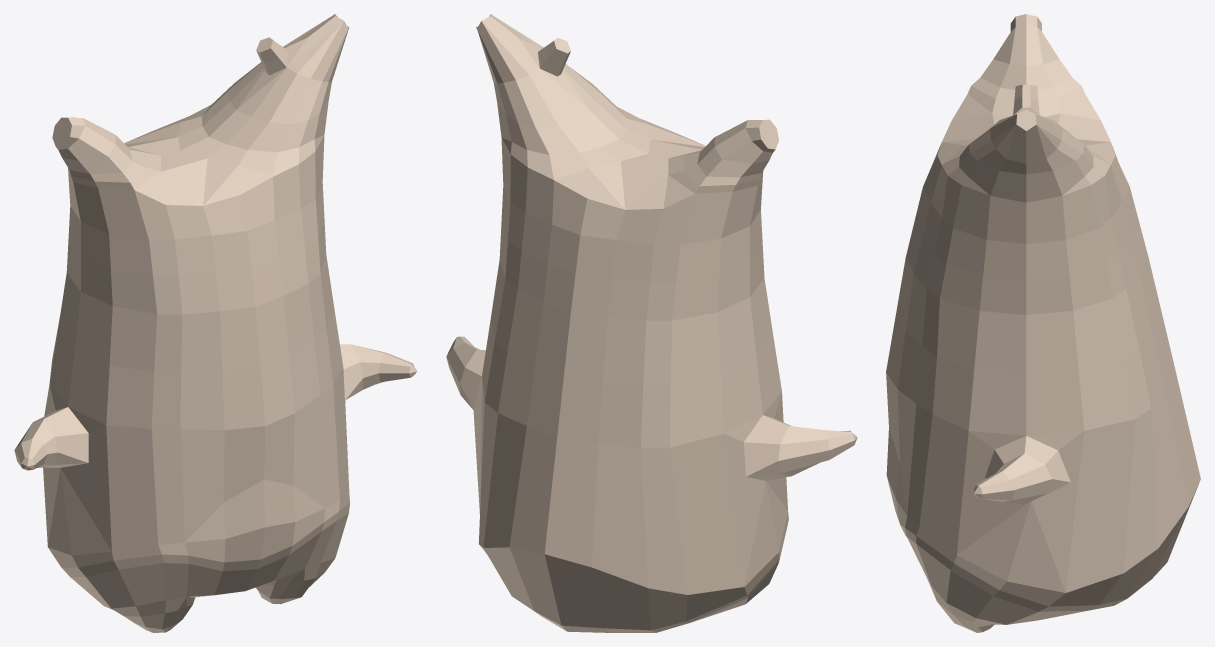
File: frame_0004.obj
3 views of the same model, side by side, from view 1: azimuth 30°, elevation 25°; view 2: azimuth 150°, elevation 25°; view 3: azimuth 270°, elevation 25° (orthographic). The views are drawn at different scales.
Parts seen in each view (by area): view 1: korok; view 2: korok; view 3: korok.
Boxes of the visible parts, left/top/right/bottom form: korok: left=14, top=14, right=417, bottom=632; korok: left=446, top=14, right=857, bottom=632; korok: left=886, top=14, right=1200, bottom=632.
Bounding box in the file's own units: 1.53 × 2.05 × 1.04.
